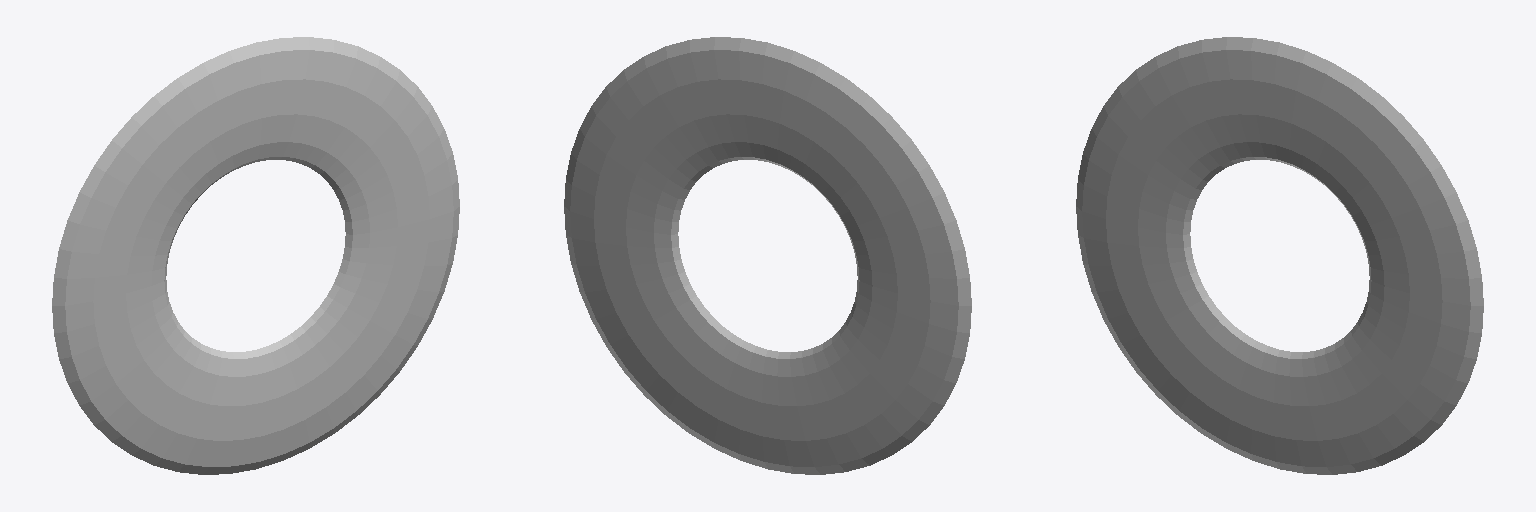
Rendered from sequin.obj.
3 renders of one model, left to right at view 1: azimuth 30°, elevation 25°; view 2: azimuth 150°, elevation 25°; view 3: azimuth 330°, elevation 25°, orthographic.
Parts seen in each view (by area): view 1: Torus; view 2: Torus; view 3: Torus.
Part boxes in pixels (x1,y1,x2,y2): Torus: (52, 37, 459, 474); Torus: (564, 37, 971, 474); Torus: (1076, 37, 1483, 474).
Size of the model in its own units: 0.4568 by 0.4568 by 0.0234.